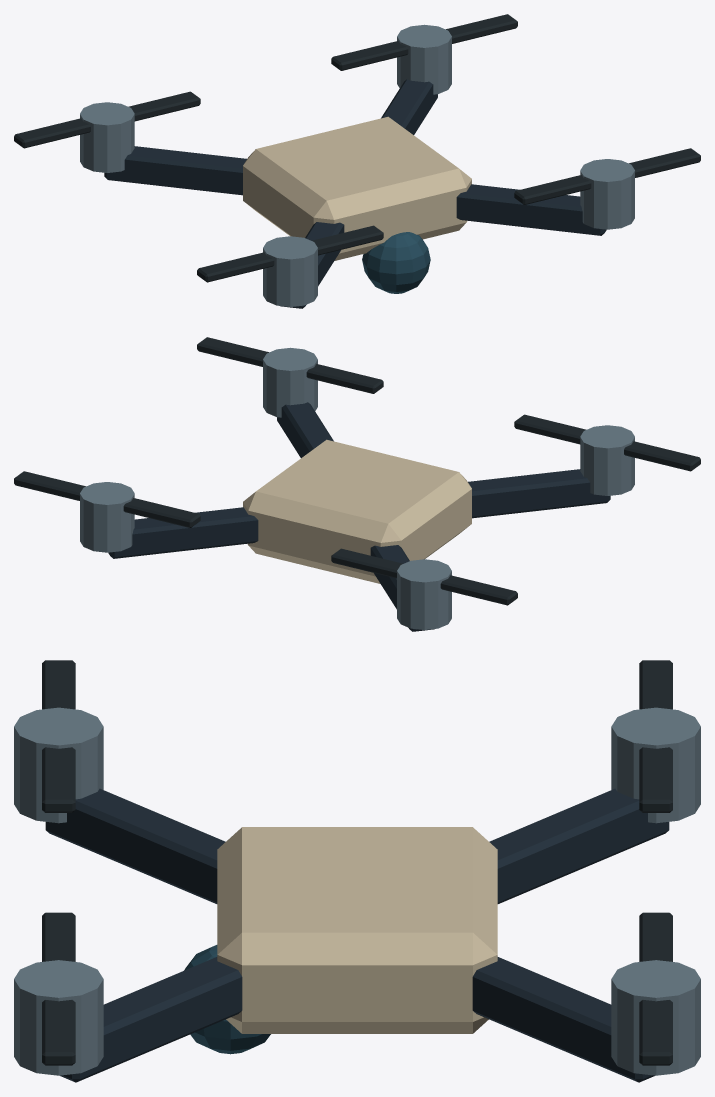
The model's file is aircraft-quadcopter.lod0.glb.
3 views of the same model, one above another, from view 1: azimuth 30°, elevation 25°; view 2: azimuth 150°, elevation 25°; view 3: azimuth 270°, elevation 25° (orthographic). The views are drawn at different scales.
Parts seen in each view (by area): view 1: aircraft-quadcopter__body, aircraft-quadcopter__rotor_-0p8_0p8, aircraft-quadcopter__rotor_0p8_0p8, aircraft-quadcopter__rotor_-0p8_-0p8, aircraft-quadcopter__rotor_0p8_-0p8; view 2: aircraft-quadcopter__body, aircraft-quadcopter__rotor_-0p8_-0p8, aircraft-quadcopter__rotor_0p8_-0p8, aircraft-quadcopter__rotor_-0p8_0p8, aircraft-quadcopter__rotor_0p8_0p8; view 3: aircraft-quadcopter__body, aircraft-quadcopter__rotor_0p8_0p8, aircraft-quadcopter__rotor_0p8_-0p8, aircraft-quadcopter__rotor_-0p8_0p8, aircraft-quadcopter__rotor_-0p8_-0p8.
Part boxes in pixels (x1=…): aircraft-quadcopter__body: x1=104, y1=79, x2=606, y2=308; aircraft-quadcopter__rotor_-0p8_0p8: x1=197, y1=225, x2=383, y2=306; aircraft-quadcopter__rotor_0p8_0p8: x1=514, y1=148, x2=700, y2=229; aircraft-quadcopter__rotor_-0p8_-0p8: x1=14, y1=91, x2=200, y2=172; aircraft-quadcopter__rotor_0p8_-0p8: x1=331, y1=14, x2=517, y2=94; aircraft-quadcopter__body: x1=108, y1=402, x2=610, y2=631; aircraft-quadcopter__rotor_-0p8_-0p8: x1=331, y1=548, x2=517, y2=629; aircraft-quadcopter__rotor_0p8_-0p8: x1=14, y1=471, x2=200, y2=552; aircraft-quadcopter__rotor_-0p8_0p8: x1=514, y1=414, x2=700, y2=495; aircraft-quadcopter__rotor_0p8_0p8: x1=197, y1=337, x2=383, y2=417; aircraft-quadcopter__body: x1=45, y1=788, x2=669, y2=1082; aircraft-quadcopter__rotor_0p8_0p8: x1=14, y1=912, x2=103, y2=1075; aircraft-quadcopter__rotor_0p8_-0p8: x1=611, y1=912, x2=700, y2=1075; aircraft-quadcopter__rotor_-0p8_0p8: x1=14, y1=660, x2=103, y2=823; aircraft-quadcopter__rotor_-0p8_-0p8: x1=611, y1=660, x2=700, y2=823.
Size of the model in its own units: 2.5 by 0.58 by 1.84.
